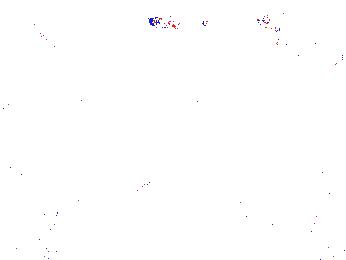X-ray fish: (13, 23, 58, 71)
glassfish: (119, 135, 239, 208)
redtail glassfish: (277, 34, 344, 62), (146, 14, 211, 34), (257, 9, 286, 29)
